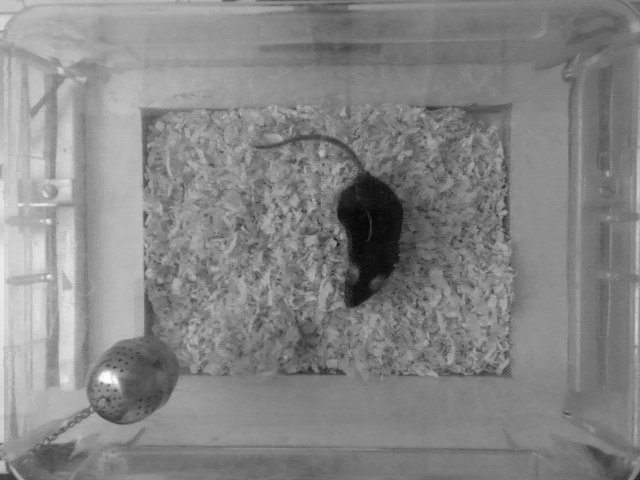mice: (254, 134, 407, 315)
